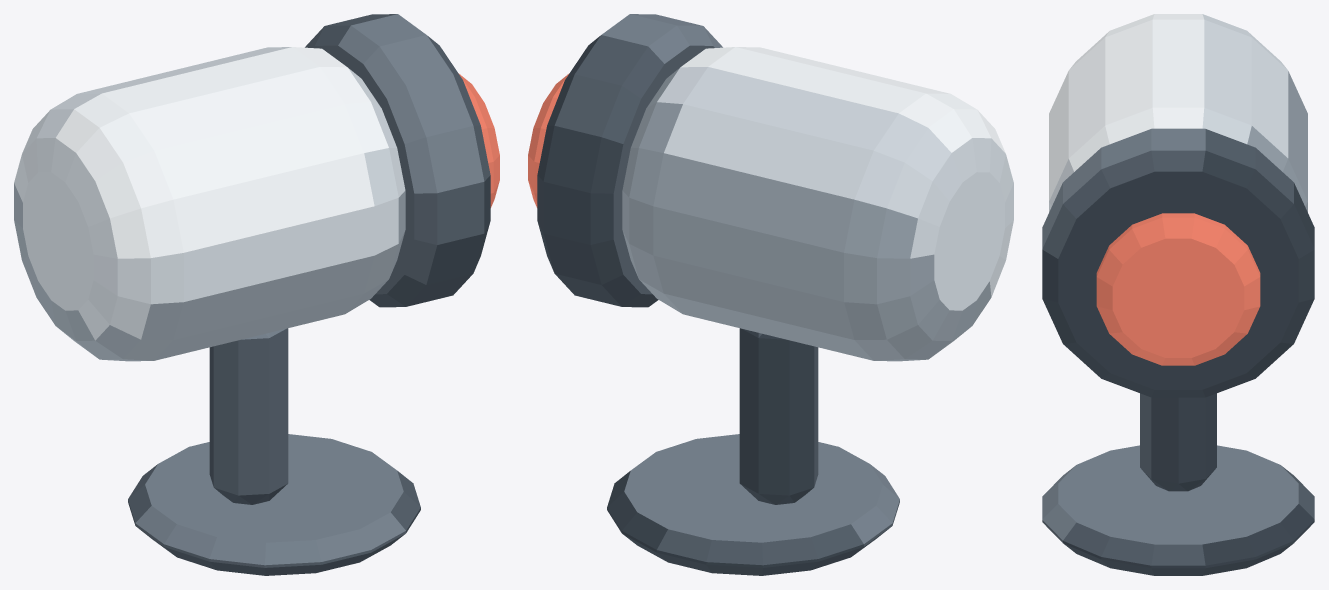
File: Laser_Right.gltf
The picture shows the model from 3 angles, left to right: view 1: azimuth 30°, elevation 25°; view 2: azimuth 150°, elevation 25°; view 3: azimuth 270°, elevation 25°; orthographic projection. The views are drawn at different scales.
Visible parts, largest first — view 1: Laser_Right_baked; view 2: Laser_Right_baked; view 3: Laser_Right_baked.
Part boxes in pixels (x1=…): Laser_Right_baked: x1=14, y1=14, x2=499, y2=575; Laser_Right_baked: x1=528, y1=14, x2=1013, y2=575; Laser_Right_baked: x1=1042, y1=14, x2=1314, y2=575.
Bounding box in the file's own units: 0.64 × 0.6962 × 0.3923.
